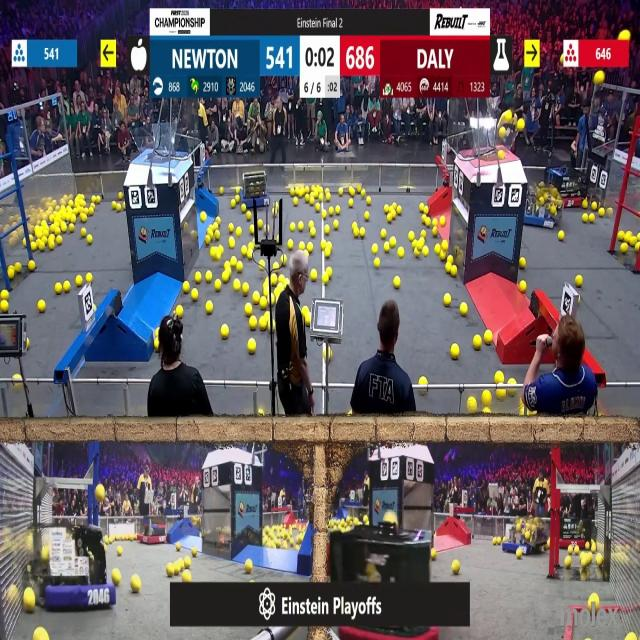ball_airborne: (97, 486, 106, 500), (595, 72, 604, 84), (503, 110, 512, 122), (518, 118, 525, 130), (499, 128, 505, 138), (498, 150, 504, 159)
ball_ground: (25, 590, 36, 613), (132, 578, 142, 594), (467, 397, 476, 412), (34, 629, 46, 640), (112, 568, 120, 584), (304, 310, 312, 326), (248, 340, 256, 355), (181, 570, 191, 582), (220, 324, 228, 338), (473, 337, 481, 351), (452, 561, 460, 575), (484, 332, 492, 345), (484, 391, 492, 404), (258, 317, 266, 330), (497, 389, 506, 400), (452, 345, 459, 359), (0, 302, 8, 314), (250, 317, 258, 329), (234, 280, 242, 292), (242, 282, 250, 294), (262, 296, 270, 308), (206, 302, 213, 315), (176, 306, 183, 319), (460, 304, 467, 317), (245, 560, 252, 573), (168, 563, 175, 576), (621, 31, 630, 41), (495, 372, 503, 383), (56, 283, 64, 294), (394, 277, 401, 289), (575, 275, 582, 287), (38, 301, 45, 313), (445, 293, 452, 305), (245, 304, 252, 316), (279, 274, 286, 286), (28, 262, 36, 272), (579, 556, 587, 566), (520, 281, 527, 292), (1, 289, 8, 300), (190, 289, 197, 300), (564, 557, 571, 568), (183, 282, 189, 294), (452, 266, 458, 278), (153, 339, 159, 351), (596, 554, 602, 566), (183, 558, 190, 568), (420, 377, 427, 387), (324, 276, 331, 286), (418, 239, 425, 249), (252, 292, 259, 302), (445, 264, 452, 274), (62, 222, 69, 232), (625, 233, 632, 243), (194, 273, 200, 284), (520, 257, 526, 268), (311, 271, 317, 282), (215, 280, 221, 291), (206, 272, 212, 283), (222, 272, 228, 283), (8, 269, 14, 280), (64, 282, 70, 293), (272, 275, 278, 286), (389, 238, 396, 247), (227, 239, 234, 248), (558, 232, 564, 242), (76, 277, 82, 287), (287, 240, 293, 250), (88, 274, 94, 284), (517, 550, 523, 560), (397, 248, 403, 258), (441, 216, 447, 226), (422, 247, 428, 257), (381, 230, 387, 240), (320, 240, 326, 250), (359, 229, 365, 239), (430, 550, 436, 560), (57, 236, 63, 246), (599, 208, 605, 218), (622, 244, 628, 254), (31, 242, 37, 252), (265, 286, 271, 296), (618, 232, 624, 242), (589, 600, 594, 612), (363, 516, 369, 526), (305, 193, 311, 203), (205, 236, 211, 246), (589, 214, 596, 222), (591, 594, 598, 602), (396, 207, 403, 215), (444, 241, 449, 252), (371, 244, 377, 253), (308, 243, 314, 252), (409, 233, 415, 242), (297, 221, 303, 230), (249, 224, 255, 233), (237, 264, 243, 273), (375, 258, 381, 267), (448, 254, 454, 263), (211, 248, 217, 257), (324, 249, 330, 258), (292, 199, 298, 208), (227, 223, 233, 232), (592, 203, 598, 212), (384, 244, 390, 253), (88, 236, 94, 245), (214, 232, 220, 241), (434, 245, 440, 254), (365, 198, 371, 207), (14, 265, 20, 274), (431, 226, 437, 235), (325, 242, 331, 251), (584, 213, 589, 223), (232, 256, 237, 266), (237, 228, 242, 238), (13, 375, 20, 382), (298, 242, 304, 250), (387, 214, 393, 222), (348, 200, 354, 208), (441, 252, 447, 260), (363, 212, 369, 220), (282, 256, 288, 264), (420, 231, 426, 239), (80, 214, 86, 222), (335, 220, 341, 228), (425, 218, 431, 226), (48, 242, 54, 250), (248, 242, 254, 250), (90, 207, 96, 215), (69, 223, 75, 231), (628, 634, 636, 640), (246, 212, 252, 220), (484, 409, 492, 415), (325, 192, 331, 200), (318, 192, 324, 200), (215, 252, 221, 260), (271, 295, 277, 303), (70, 215, 76, 223), (309, 220, 315, 228), (492, 536, 498, 544), (23, 239, 29, 247), (176, 541, 181, 550), (311, 229, 316, 238), (224, 262, 229, 271), (39, 243, 44, 252), (584, 202, 589, 211), (635, 243, 640, 252), (596, 599, 600, 610), (231, 201, 237, 208), (352, 221, 358, 228), (258, 411, 264, 418), (573, 546, 579, 553), (415, 250, 420, 258), (219, 186, 224, 194), (242, 247, 247, 255), (248, 250, 252, 260), (80, 230, 85, 238), (326, 269, 331, 277), (420, 204, 425, 212), (316, 204, 321, 212), (432, 218, 437, 226), (568, 545, 573, 553), (118, 191, 123, 199), (587, 542, 592, 550), (93, 194, 98, 202), (276, 202, 281, 210), (544, 540, 549, 548), (202, 212, 206, 221), (354, 230, 358, 239), (192, 546, 196, 555), (120, 548, 124, 557), (242, 204, 246, 213), (258, 266, 264, 272), (249, 578, 255, 584), (592, 543, 596, 552), (265, 312, 271, 318), (636, 235, 640, 244), (191, 232, 195, 241), (274, 264, 279, 271), (259, 259, 264, 266), (218, 246, 223, 253), (328, 208, 333, 215), (290, 222, 294, 230), (337, 207, 341, 215), (413, 241, 417, 249), (322, 210, 326, 218), (258, 220, 262, 228), (384, 205, 388, 213), (237, 194, 241, 202), (216, 216, 220, 224), (116, 205, 120, 213), (272, 321, 276, 329), (327, 225, 331, 232), (340, 188, 344, 195), (97, 198, 101, 205), (209, 223, 213, 230), (112, 202, 115, 211), (27, 340, 30, 348), (237, 186, 240, 193)
goal: (466, 124, 523, 160), (130, 130, 190, 160)
robot_blue: (37, 524, 112, 608), (0, 520, 23, 638), (522, 181, 564, 229), (505, 514, 549, 554), (241, 167, 270, 207)
robot_red: (339, 540, 442, 640), (610, 514, 640, 630), (558, 499, 594, 550), (547, 156, 584, 200), (138, 516, 169, 544)
